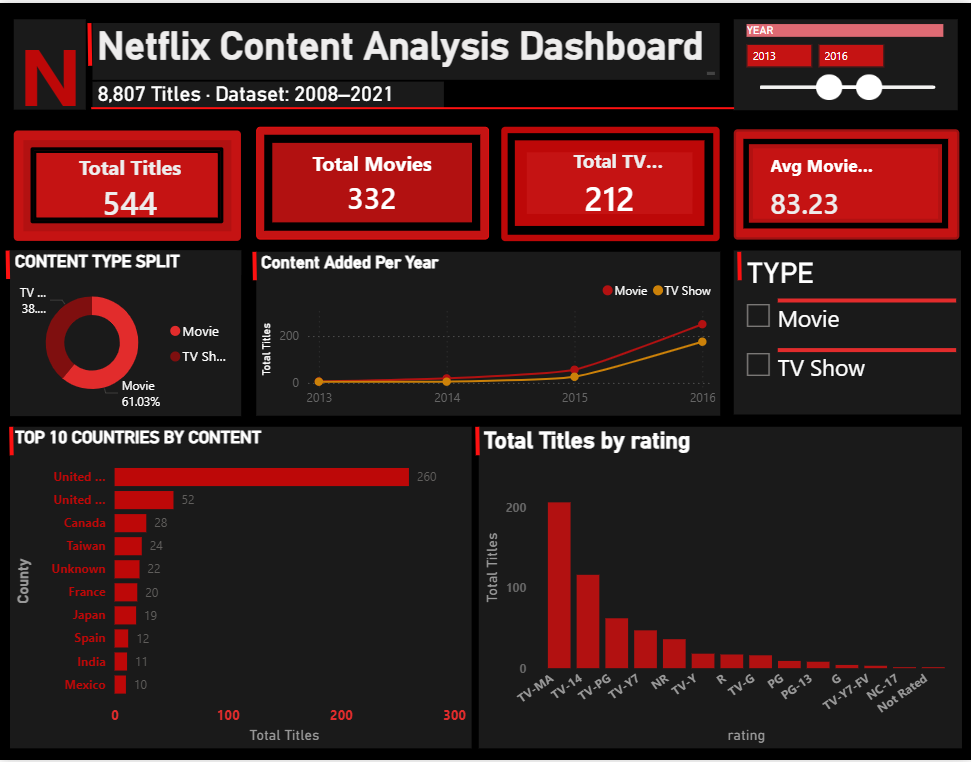

The page's visual inventory and layout, read from the dashboard file:
{"tool":"powerbi","page":{"name":"Executive_Overview","canvas":[971,757],"ordinal":0},"visuals":[{"type":"cardVisual","fields":{"Data":["netflix_cleaned.Total Titles"]},"box":[14.3,127.1,227.1,110],"z":0},{"type":"cardVisual","fields":{"Data":["netflix_cleaned.Total Movies"]},"box":[255.7,124.3,232.9,112.9],"z":1000},{"type":"cardVisual","fields":{"Data":["netflix_cleaned.Total TV Shows"]},"box":[501.4,124.3,218.6,114.3],"z":2000},{"type":"cardVisual","fields":{"Data":["netflix_cleaned.Avg Movie Duration"]},"box":[734.3,125.7,225.7,110],"z":3000},{"type":"donutChart","title":"       CONTENT TYPE SPLIT","fields":{"Category":["netflix_cleaned.type"],"Y":["netflix_cleaned.Total Titles"]},"box":[10,247.1,231.4,165.7],"z":4000},{"type":"lineChart","title":"Content Added Per Year","fields":{"Category":["netflix_cleaned.year_added"],"Y":["netflix_cleaned.Total Titles"],"Series":["netflix_cleaned.type"]},"box":[255.7,248.6,464.3,164.3],"z":5000},{"type":"clusteredBarChart","title":"         TOP 10 COUNTRIES BY CONTENT","fields":{"Category":["netflix_cleaned.primary_country"],"Y":["netflix_cleaned.Total Titles"]},"box":[10,424.3,461.4,321.4],"z":6000},{"type":"textbox","title":"Netflix Content Analysis Dashboard","box":[92.9,20,627.1,57.1],"z":7000},{"type":"textbox","title":"N","box":[14,16,72,90],"z":8000},{"type":"slicer","fields":{"Values":["netflix_cleaned.type"]},"box":[734.3,247.1,227.1,164.3],"z":9000},{"type":"slicer","fields":{"Values":["netflix_cleaned.year_added"]},"box":[734.3,15.7,222.9,90],"z":10000},{"type":"clusteredColumnChart","fields":{"Category":["netflix_cleaned.rating"],"Y":["netflix_cleaned.Total Titles"]},"box":[478.6,424.3,482.9,321.4],"z":11000},{"type":"textbox","title":"8,807 Titles · Dataset: 2008–2021","box":[92.9,78.6,351.4,27.1],"z":12000},{"type":"shape","box":[91.4,88.6,642.9,32.9],"z":13000},{"type":"shape","box":[462.9,424.3,30,28.6],"z":14000},{"type":"shape","box":[232.9,248.6,44.3,28.6],"z":15000},{"type":"shape","box":[734.3,248.6,11.4,28.6],"z":16000},{"type":"shape","box":[0,424.3,22.9,28.6],"z":17000},{"type":"shape","box":[0,247.1,15.7,28.6],"z":18000},{"type":"shape","box":[85.7,20,7.1,42.9],"z":19000}]}

Visuals, with their boxes in screenshot pixels (x1, y1, x2, y2), scaled from the page's 971x757 canvas onto the 971x762 screenshot:
cardVisual - netflix_cleaned.Total Titles: pyautogui.locateOnScreen(14, 128, 241, 239)
cardVisual - netflix_cleaned.Total Movies: pyautogui.locateOnScreen(256, 125, 489, 239)
cardVisual - netflix_cleaned.Total TV Shows: pyautogui.locateOnScreen(501, 125, 720, 240)
cardVisual - netflix_cleaned.Avg Movie Duration: pyautogui.locateOnScreen(734, 127, 960, 237)
"       CONTENT TYPE SPLIT" donutChart: pyautogui.locateOnScreen(10, 249, 241, 416)
"Content Added Per Year" lineChart: pyautogui.locateOnScreen(256, 250, 720, 416)
"         TOP 10 COUNTRIES BY CONTENT" clusteredBarChart: pyautogui.locateOnScreen(10, 427, 471, 751)
"Netflix Content Analysis Dashboard" textbox: pyautogui.locateOnScreen(93, 20, 720, 78)
"N" textbox: pyautogui.locateOnScreen(14, 16, 86, 107)
slicer - netflix_cleaned.type: pyautogui.locateOnScreen(734, 249, 961, 414)
slicer - netflix_cleaned.year_added: pyautogui.locateOnScreen(734, 16, 957, 106)
clusteredColumnChart - netflix_cleaned.rating x netflix_cleaned.Total Titles: pyautogui.locateOnScreen(479, 427, 962, 751)
"8,807 Titles · Dataset: 2008–2021" textbox: pyautogui.locateOnScreen(93, 79, 444, 106)
shape: pyautogui.locateOnScreen(91, 89, 734, 122)
shape: pyautogui.locateOnScreen(463, 427, 493, 456)
shape: pyautogui.locateOnScreen(233, 250, 277, 279)
shape: pyautogui.locateOnScreen(734, 250, 746, 279)
shape: pyautogui.locateOnScreen(0, 427, 23, 456)
shape: pyautogui.locateOnScreen(0, 249, 16, 278)
shape: pyautogui.locateOnScreen(86, 20, 93, 63)
